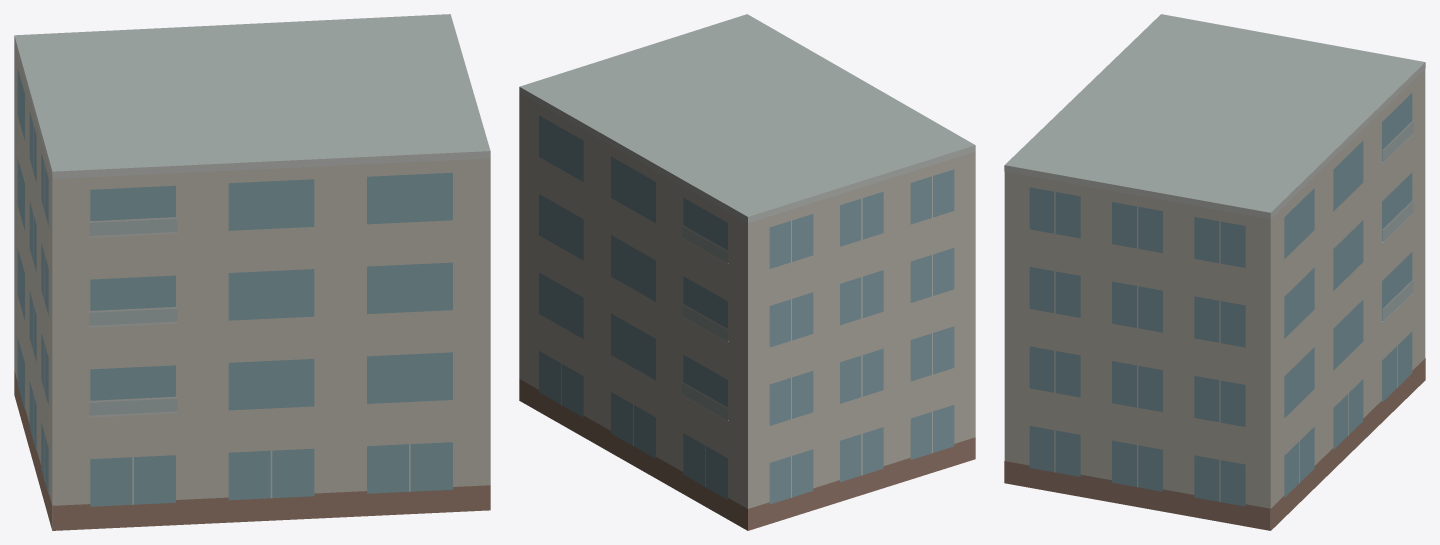
File: survey-upis-32749542.glb
3 views of the same model, side by side, from view 1: azimuth 30°, elevation 25°; view 2: azimuth 150°, elevation 25°; view 3: azimuth 270°, elevation 25° (orthographic). The views are drawn at different scales.
Parts seen in each view (by area): view 1: survey-upis-32749542.tmp; view 2: survey-upis-32749542.tmp; view 3: survey-upis-32749542.tmp.
Part boxes in pixels (left/top/right/bottom): survey-upis-32749542.tmp: left=14, top=14, right=490, bottom=530; survey-upis-32749542.tmp: left=519, top=14, right=975, bottom=530; survey-upis-32749542.tmp: left=1004, top=14, right=1425, bottom=530.
Bounding box in the file's own units: 16.1 × 12 × 14.4.
